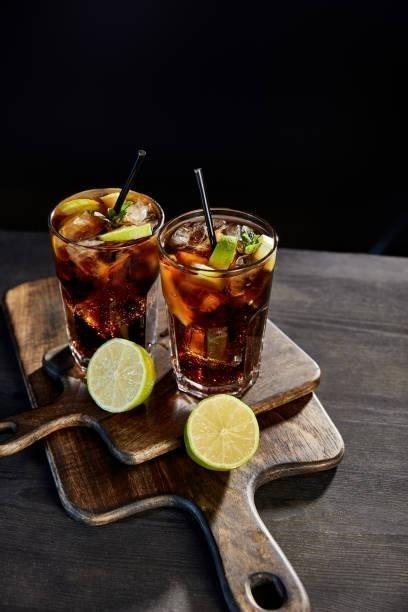glass-normal: (155, 206, 279, 399), (47, 185, 165, 369)
